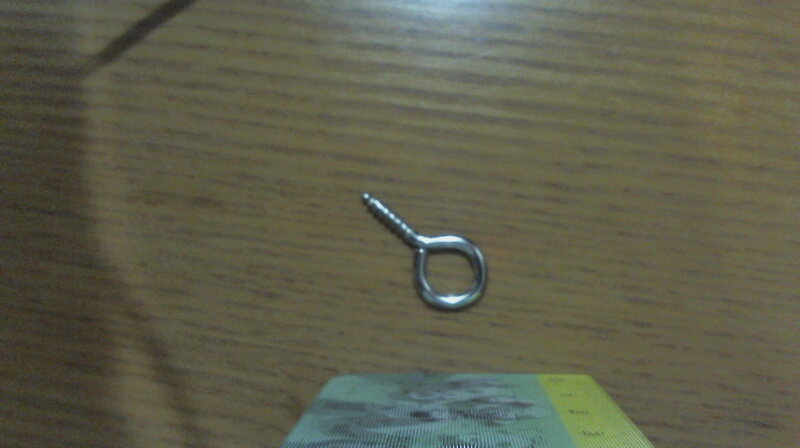O001: (358, 185, 493, 315)
